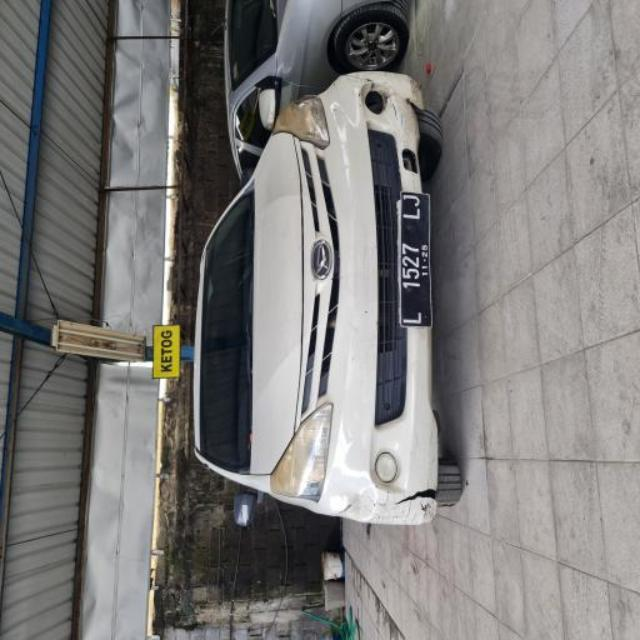crack: (392, 479, 441, 514), (357, 75, 385, 93)
dent: (318, 426, 388, 522)
lamp broken: (360, 95, 401, 120)
